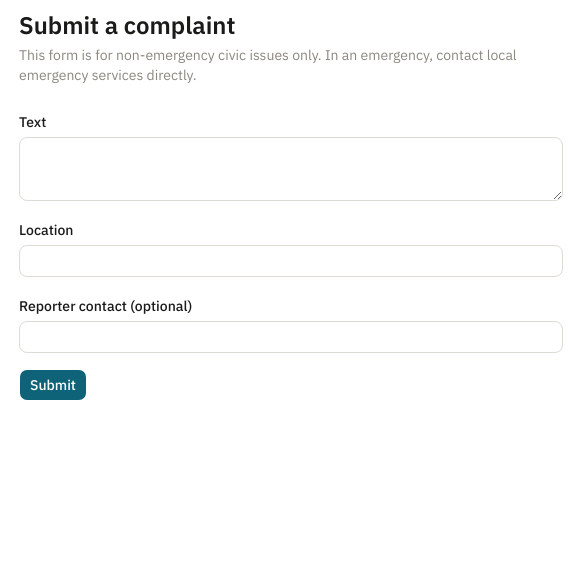
it: Submit view › renders the 201 response's triage result inline, no second request
Step 1. Type "A pothole has appeared on the main road." into the text box labelled "Text" → (291, 169), box [19,137,563,201]
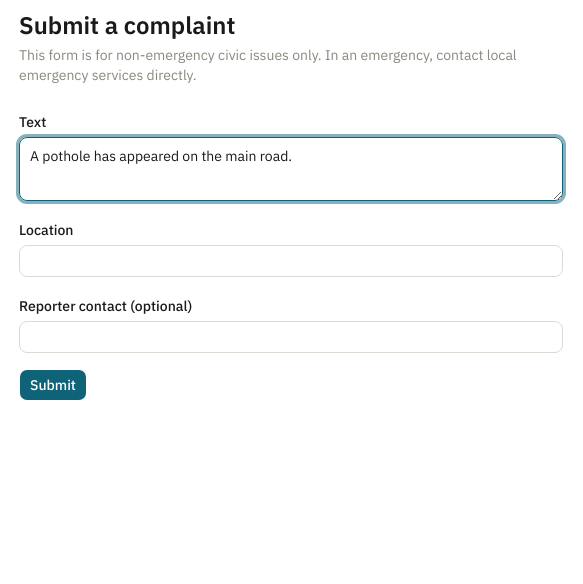
Step 2. Type "Test Location" into the field labelled "Location" → (291, 261), box [19,245,563,277]
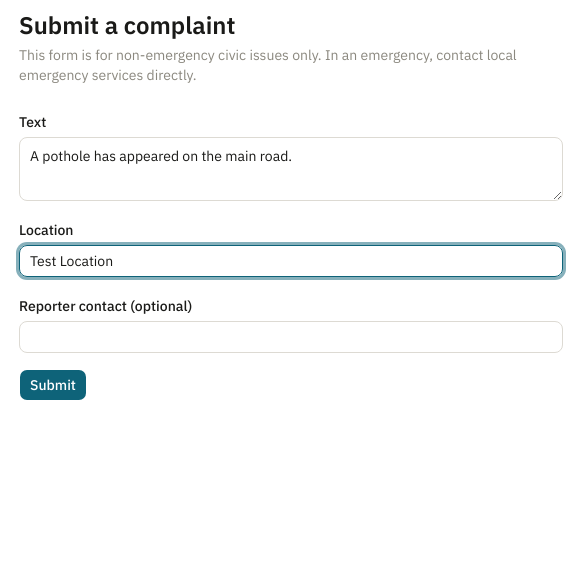
Step 3. Click the button "Submit" → (53, 385), box [19,369,87,401]
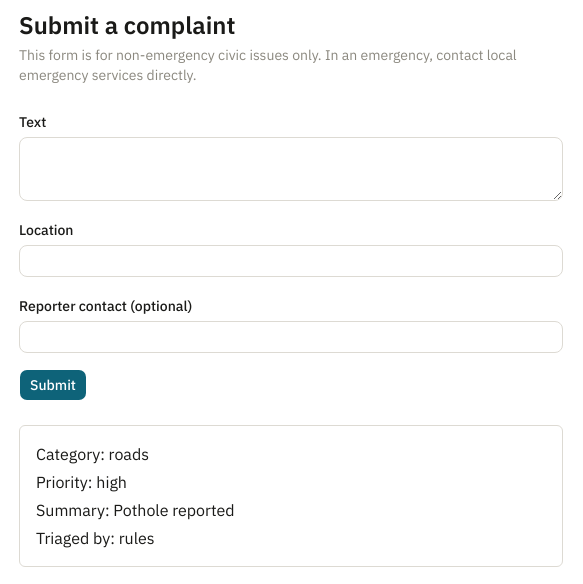
Expected: the text "Category: roads" is shown, [36,444,149,464]
